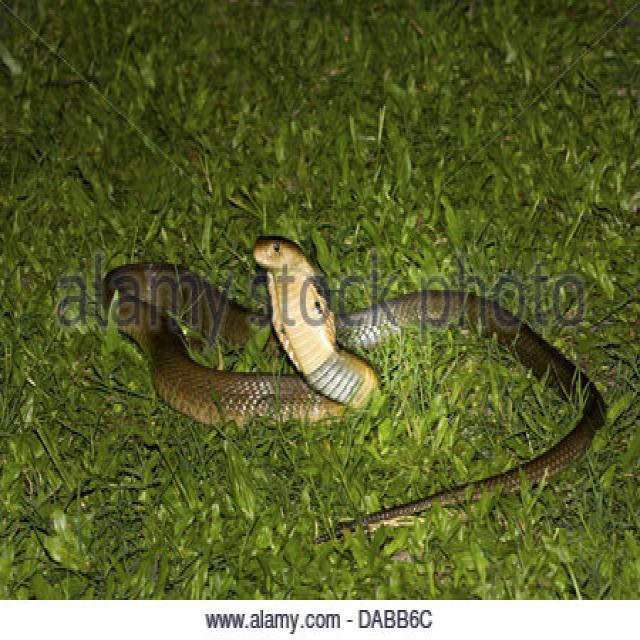Snake: (100, 232, 608, 544)
